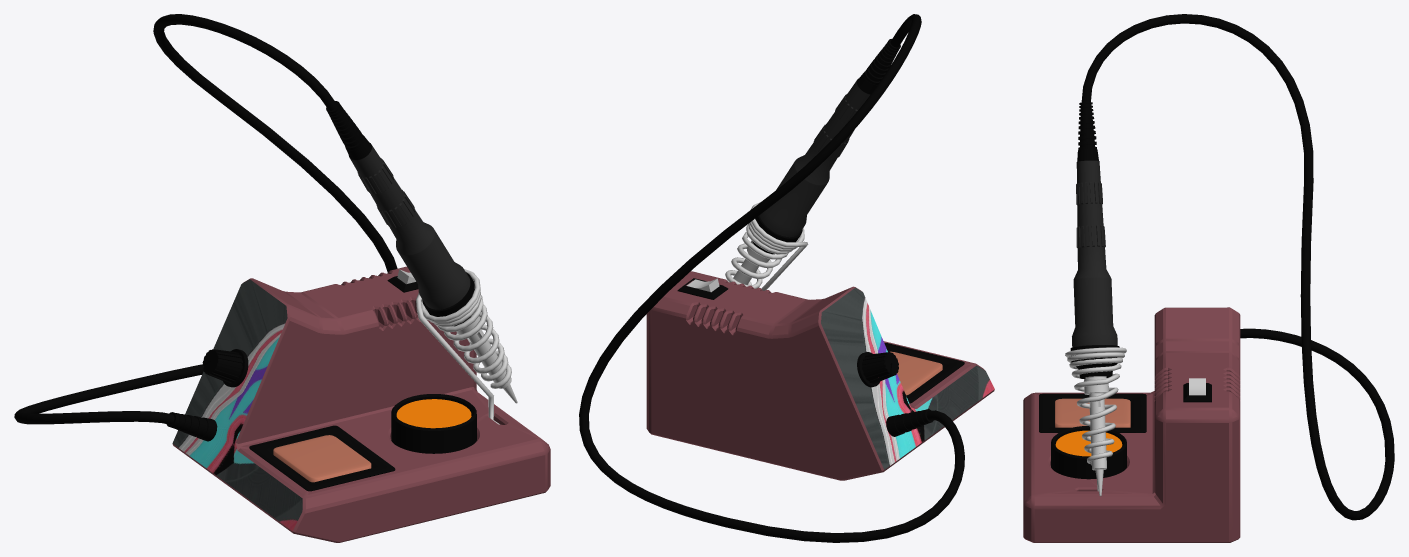
Rendered from cc0_generic_soldering_station.fbx.
3 renders of one model, left to right at view 1: azimuth 30°, elevation 25°; view 2: azimuth 150°, elevation 25°; view 3: azimuth 270°, elevation 25°, orthographic. The views are drawn at different scales.
Parts seen in each view (by area): view 1: Soldering_Station_15, Cable001_5, Iron_7, Iron_Holder001_11, Sponge_12, Brass_Holder_1, Sponge_Holder_13, Brass_0, Temperature_Knob_14, Cylinder001_10; view 2: Soldering_Station_15, Cable001_5, Iron_7, Iron_Holder001_11, Sponge_12, Temperature_Knob_14, Sponge_Holder_13, Cylinder001_10; view 3: Soldering_Station_15, Cable001_5, Iron_7, Iron_Holder001_11, Brass_Holder_1, Sponge_Holder_13, Sponge_12, Brass_0, Cylinder_8.
Boxes of the visible parts, box(x1,y1,x2,y2) form: Soldering_Station_15: box(172, 266, 550, 542); Cable001_5: box(14, 14, 397, 424); Iron_7: box(326, 101, 517, 403); Iron_Holder001_11: box(416, 269, 511, 424); Sponge_12: box(273, 435, 371, 482); Brass_Holder_1: box(391, 394, 476, 453); Sponge_Holder_13: box(249, 425, 395, 491); Brass_0: box(396, 399, 471, 428); Temperature_Knob_14: box(202, 349, 248, 387); Cylinder001_10: box(166, 412, 217, 441); Soldering_Station_15: box(646, 271, 994, 480); Cable001_5: box(579, 14, 964, 542); Iron_7: box(733, 39, 900, 284); Iron_Holder001_11: box(725, 202, 808, 290); Sponge_12: box(890, 351, 942, 395); Temperature_Knob_14: box(857, 352, 898, 387); Sponge_Holder_13: box(884, 343, 964, 403); Cylinder001_10: box(886, 409, 933, 436); Soldering_Station_15: box(1023, 307, 1240, 542); Cable001_5: box(1081, 14, 1394, 520); Iron_7: box(1072, 102, 1117, 496); Iron_Holder001_11: box(1065, 347, 1126, 491); Brass_Holder_1: box(1051, 426, 1126, 479); Sponge_Holder_13: box(1039, 393, 1146, 432); Sponge_12: box(1055, 398, 1130, 427); Brass_0: box(1055, 430, 1122, 456); Cylinder_8: box(1070, 345, 1119, 378).
Size of the model in its own units: 0.209 by 0.2445 by 0.195.
